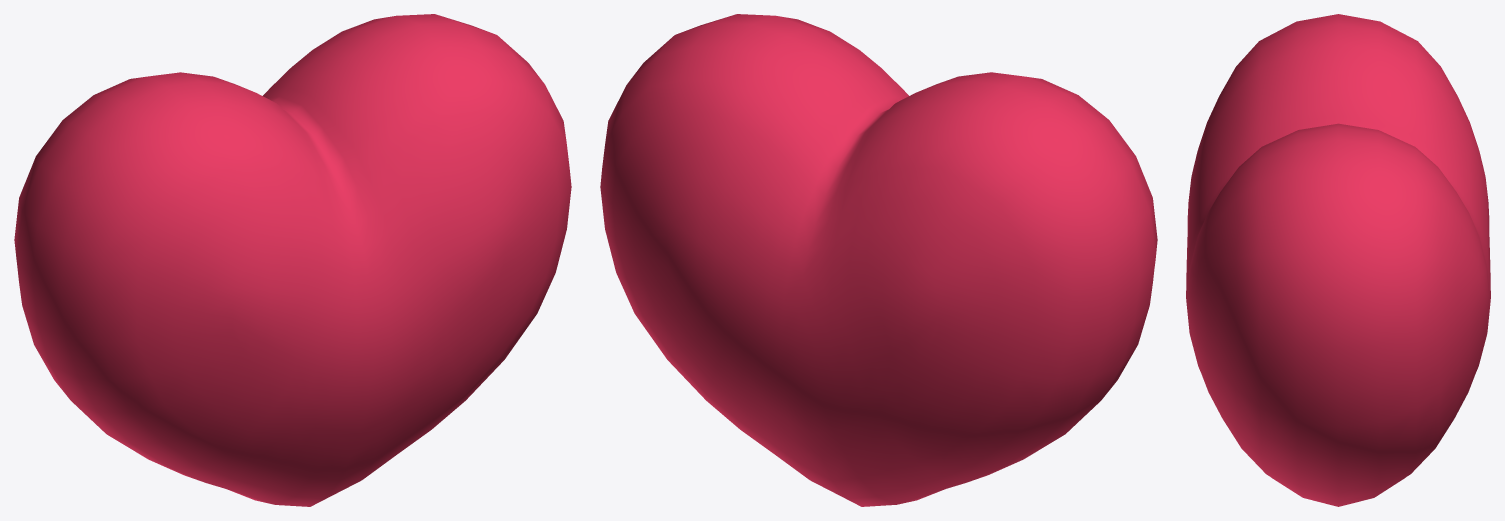
The model's file is HeartBubble.fbx.
The picture shows the model from 3 angles, left to right: view 1: azimuth 30°, elevation 25°; view 2: azimuth 150°, elevation 25°; view 3: azimuth 270°, elevation 25°; orthographic projection. The views are drawn at different scales.
Parts seen in each view (by area): view 1: HeartBubble; view 2: HeartBubble; view 3: HeartBubble.
Boxes of the visible parts, x1=… form: HeartBubble: x1=14, y1=14, x2=571, y2=506; HeartBubble: x1=600, y1=14, x2=1157, y2=506; HeartBubble: x1=1186, y1=14, x2=1490, y2=506.
Size of the model in its own units: 104 by 85.26 by 56.15.
